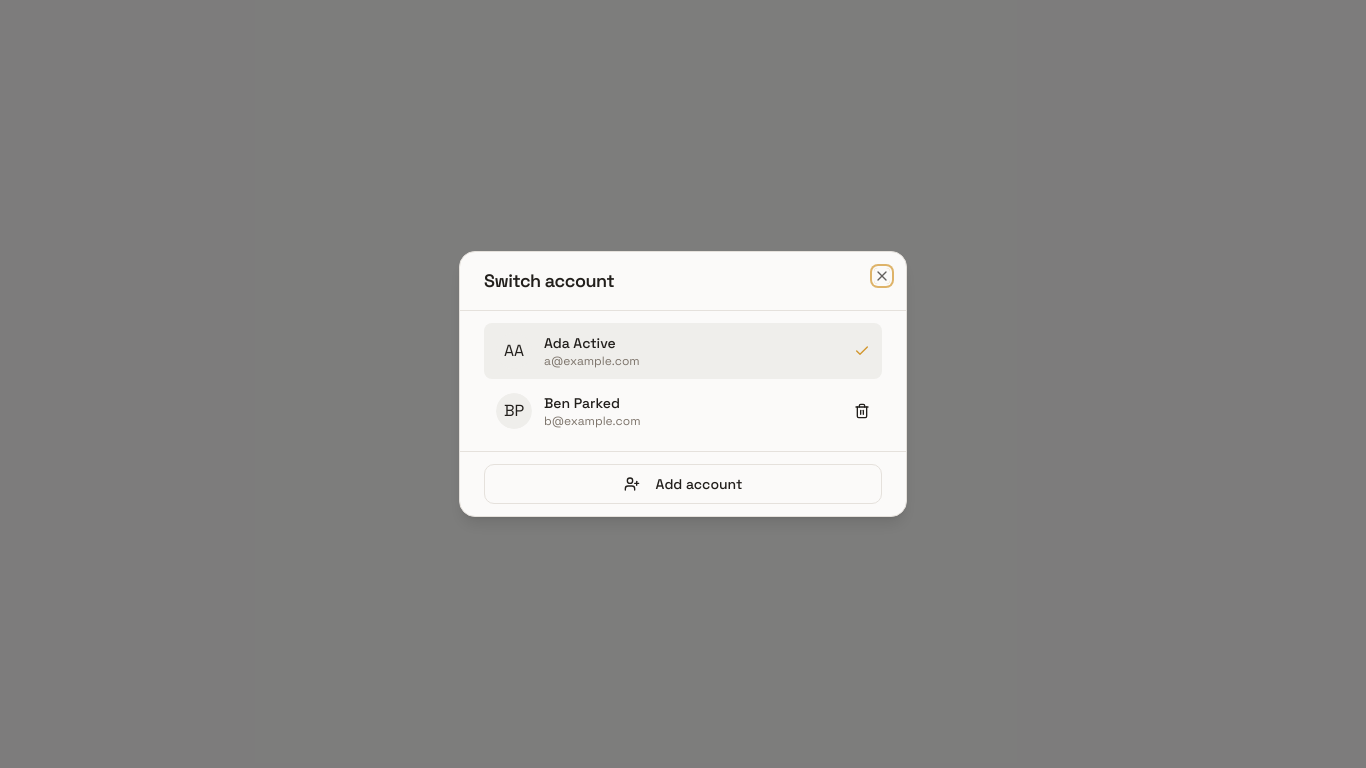
it: AccountSwitcherDialog › removes a parked account and refetches the list
This screenshot has width=1366, height=768.
Click the button named "Remove Ben Parked": (862, 411) x1=842 y1=391 x2=882 y2=431
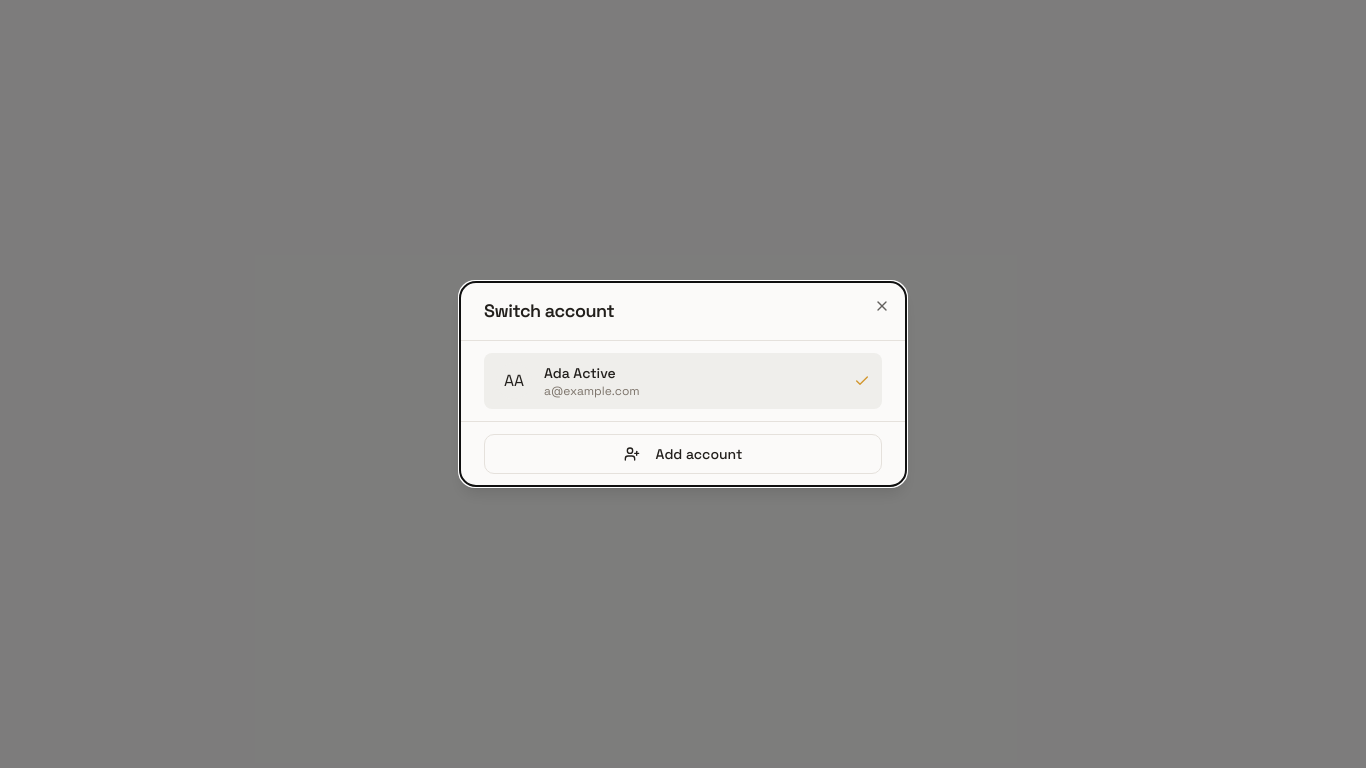
expect the button "Ben Parked" is gone: met
